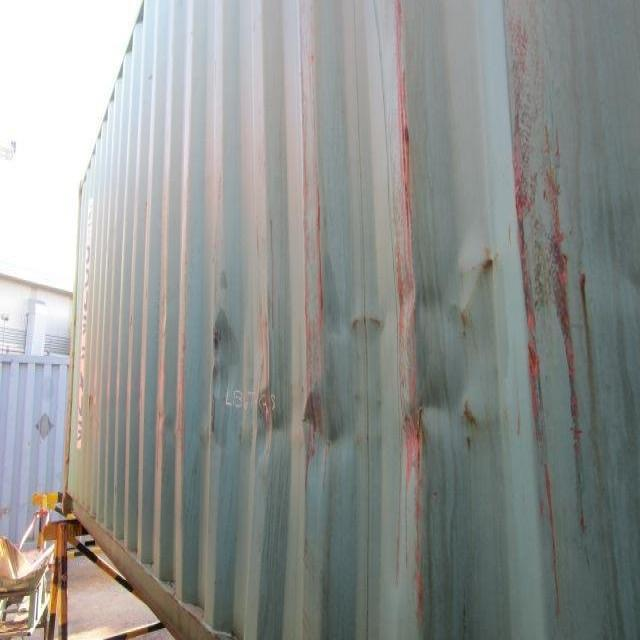dent: (179, 253, 542, 500)
